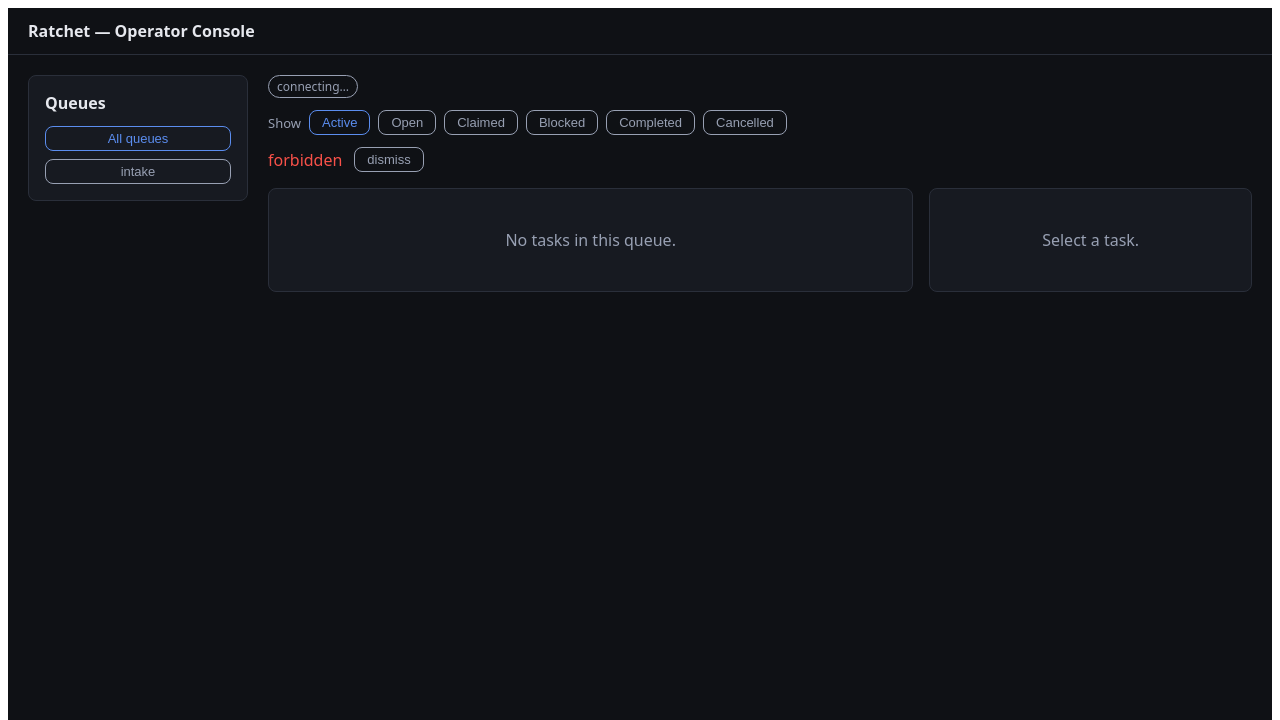
Test: a failed subscription is shown on the page and can be dismissed
Expected: the text "No tasks in this queue." is shown, [505,229,676,251]
Expected: the text "forbidden" is shown, [268,148,342,170]
Click the button "dismiss" at (389, 160), box [354,147,424,172]
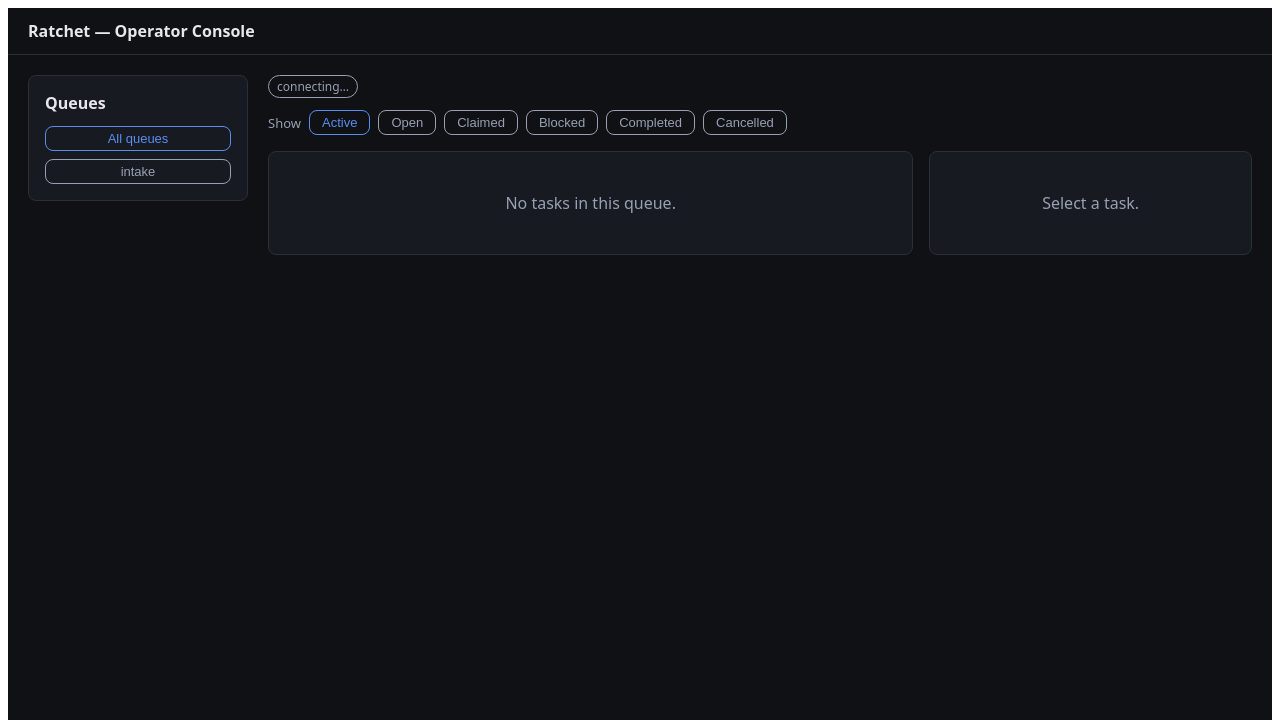
Result: the text "forbidden" is gone
